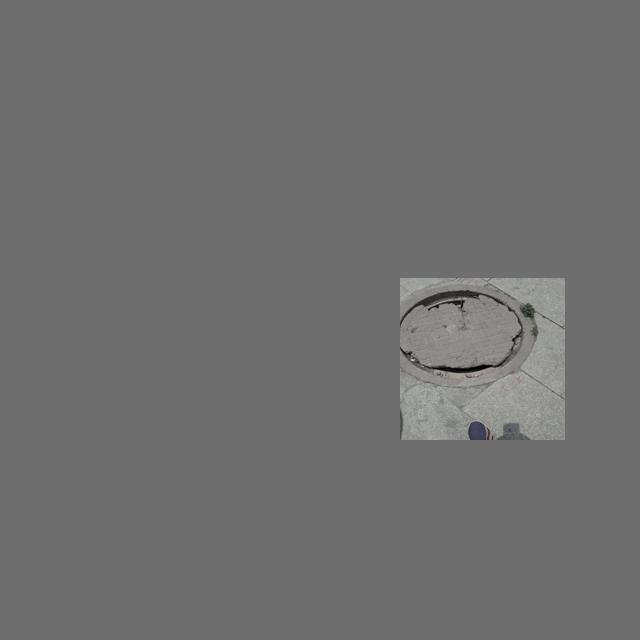broke: (400, 282, 539, 388)
